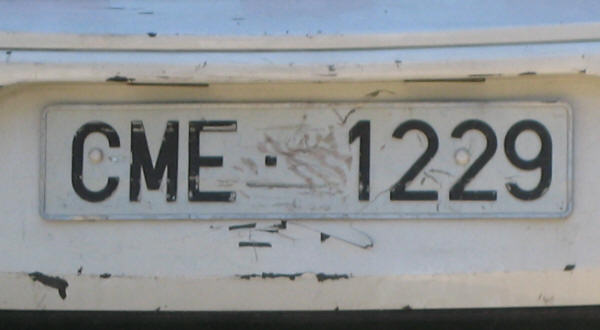license_plate: (39, 103, 575, 218)
